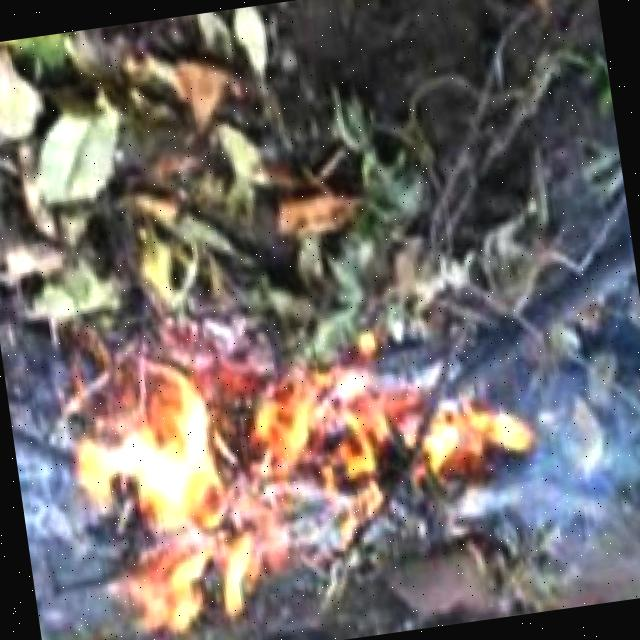fire: (62, 343, 319, 639), (245, 336, 531, 528)
